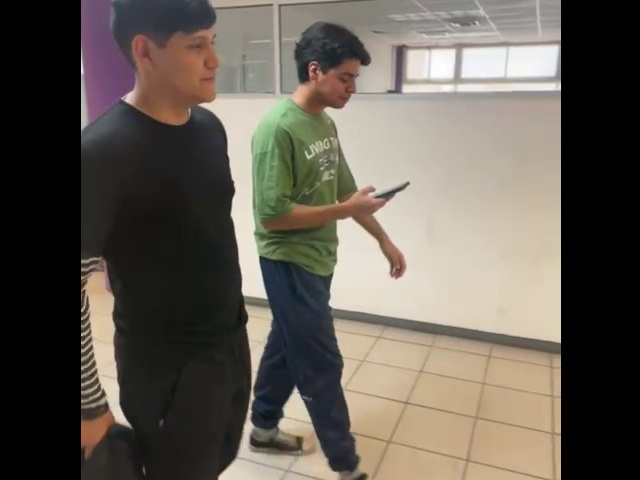mixto2: (365, 175, 415, 198)
